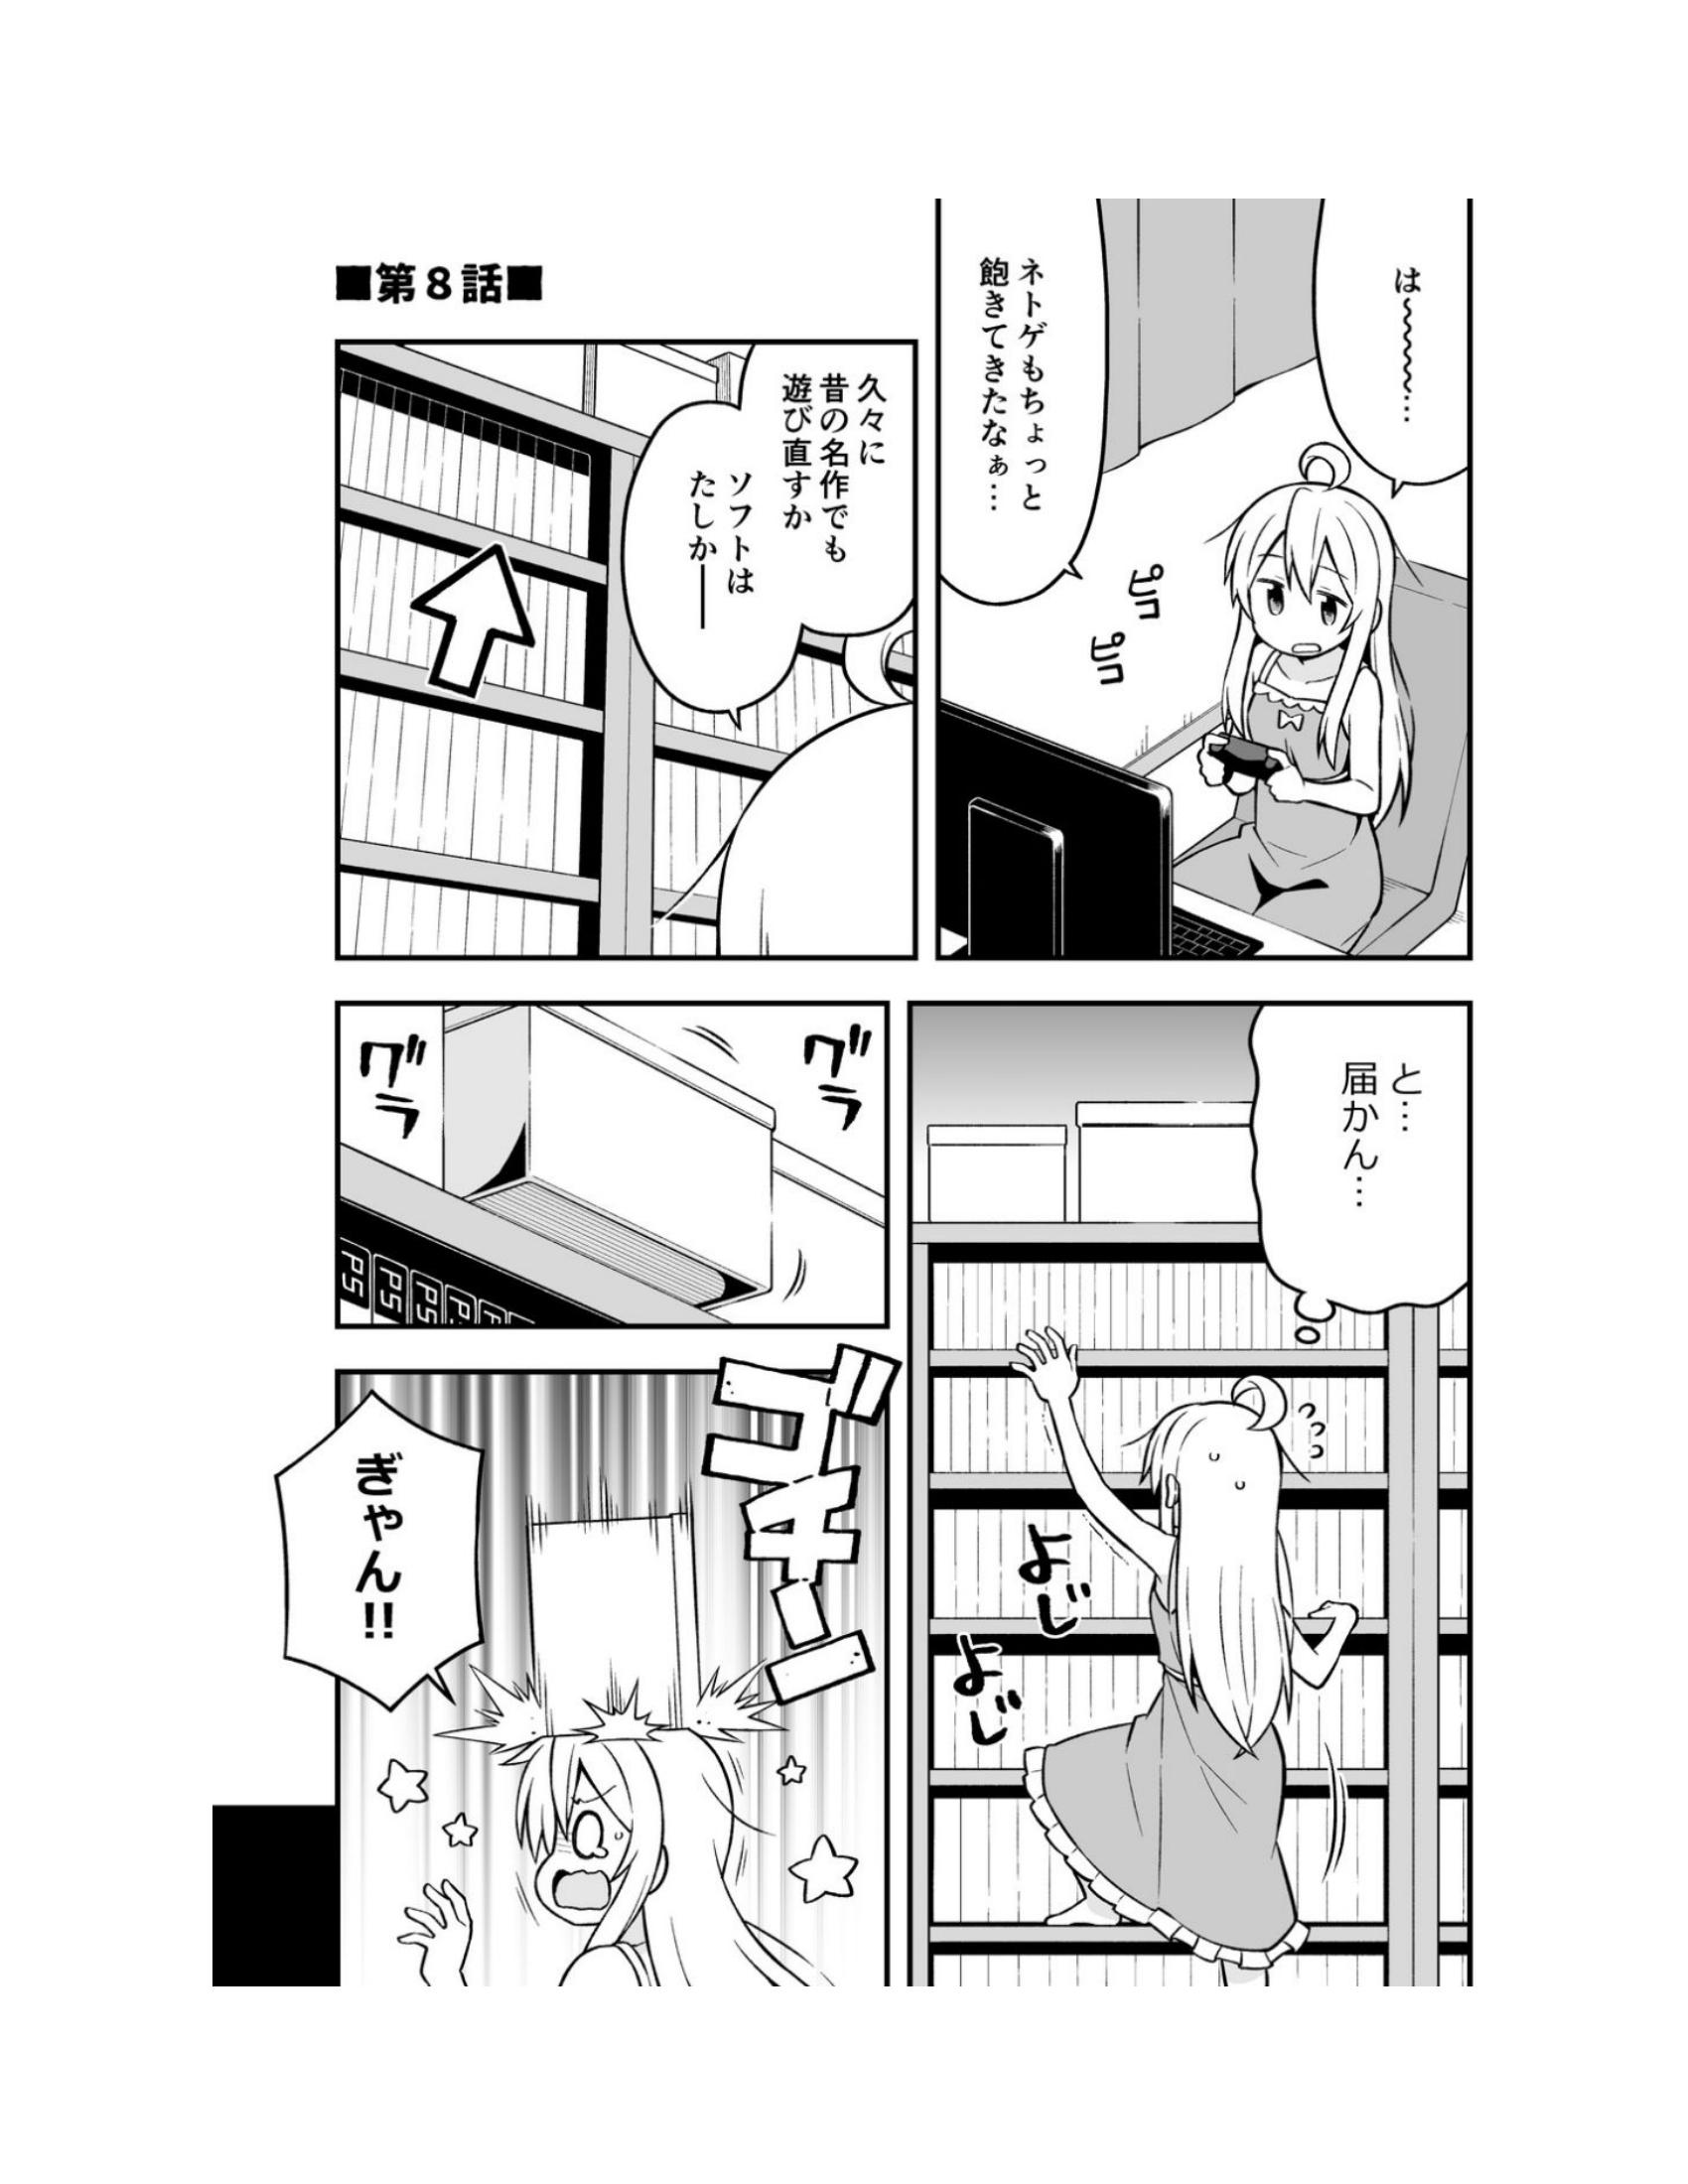a: (635, 360, 917, 716), (220, 1400, 493, 1727), (1254, 966, 1456, 1356), (1284, 188, 1482, 514), (938, 218, 1085, 610)
